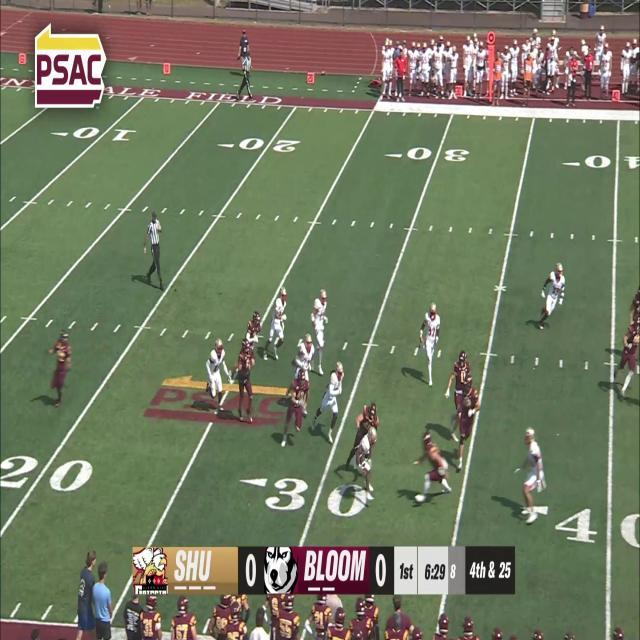football: (358, 453, 366, 467)
